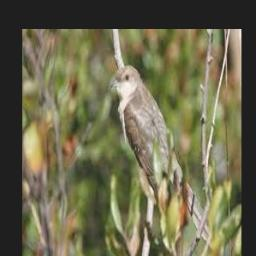Cuckoo: (109, 65, 216, 250)
